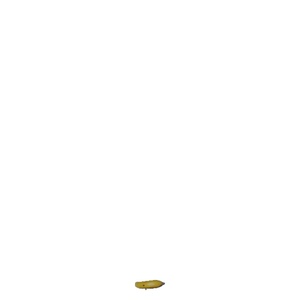banana: (131, 277, 166, 294)
